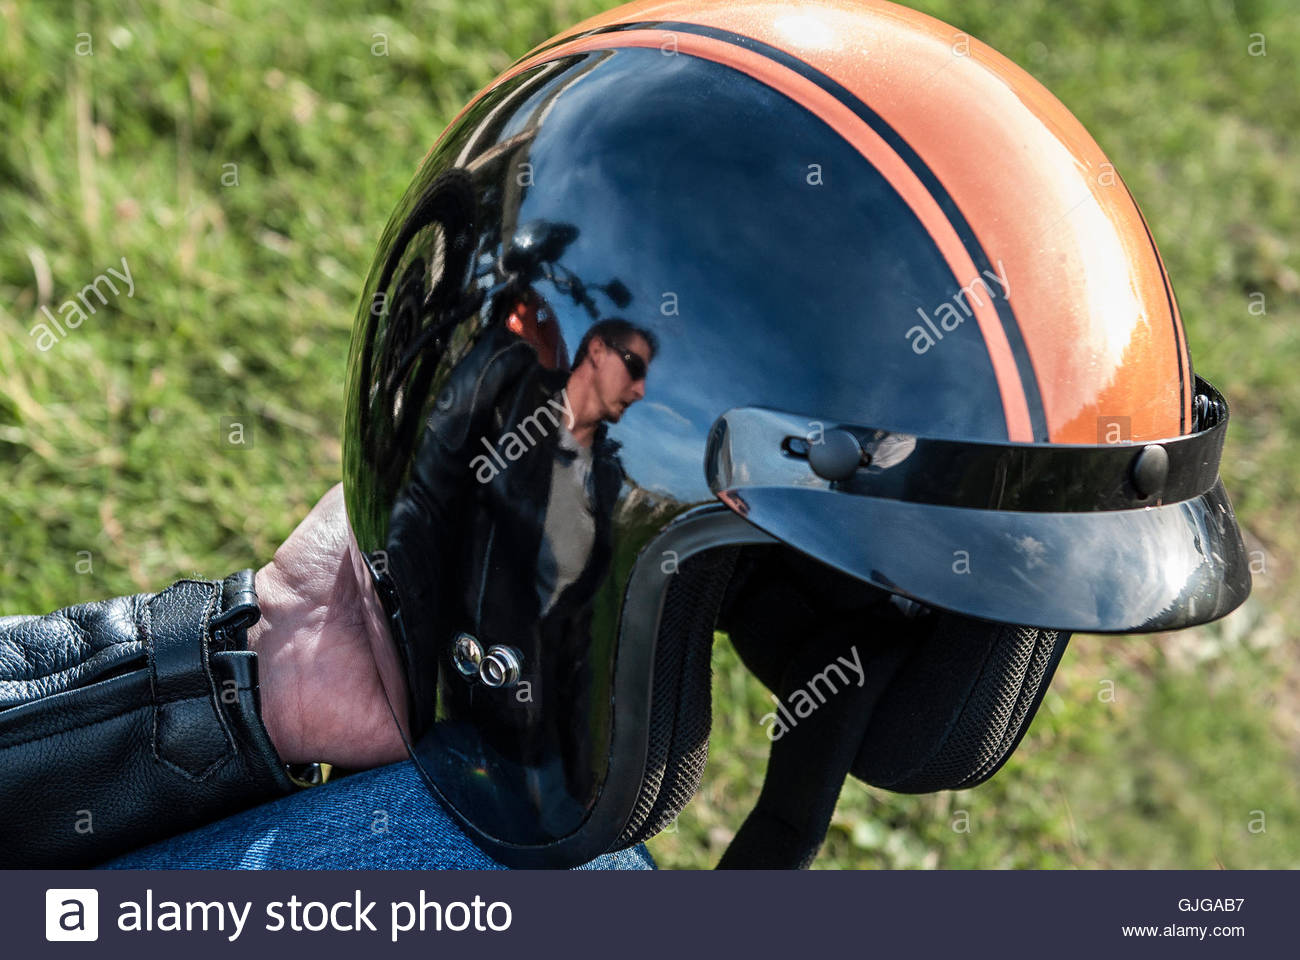with_helmet: (335, 2, 1237, 858)
